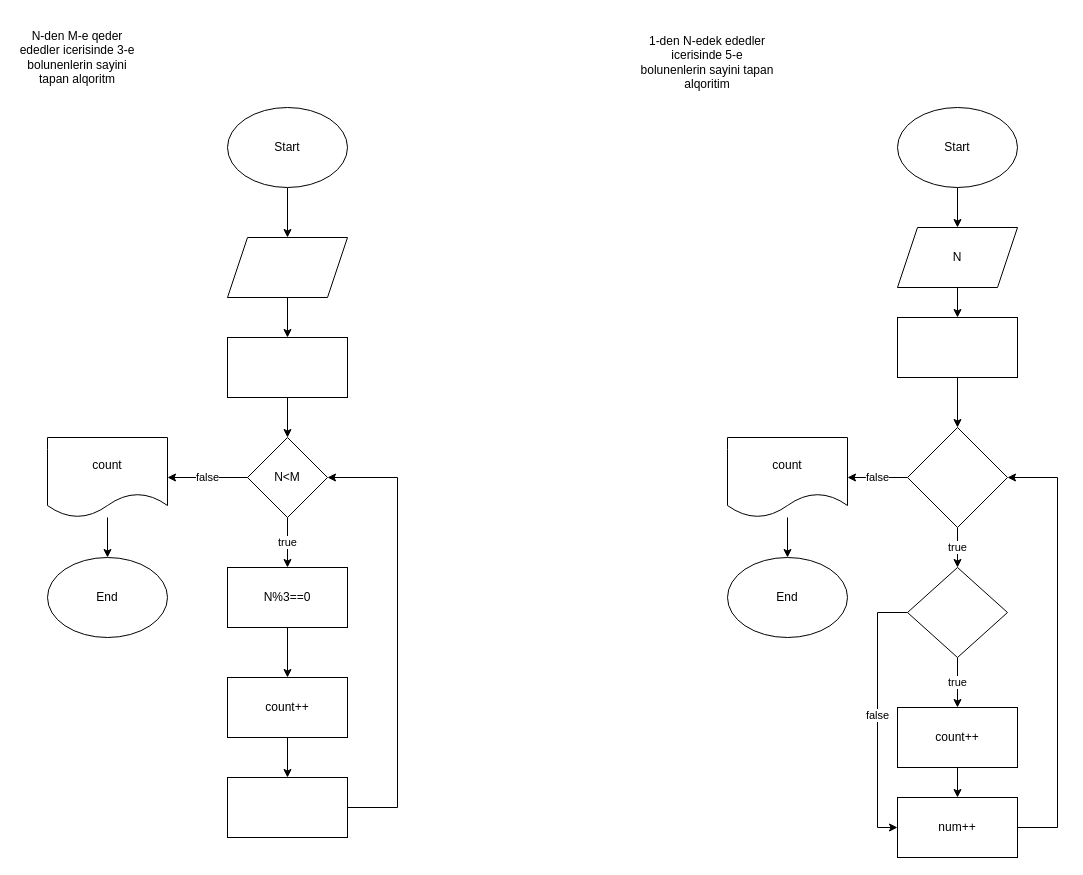
The diagram is 1083 pixels wide and 875 high, and some of its shapes have lost their labels. The centre of each missing label's shape, as x and y in pixels:
count=0: (x=287, y=367)
count=0 num=1: (x=957, y=347)
N++: (x=287, y=807)
N, M: (x=287, y=267)
num%5==0: (x=957, y=612)
num<N: (x=957, y=477)
